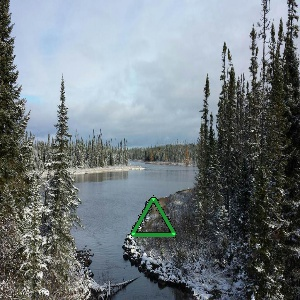triangle: (128, 192, 181, 241)
